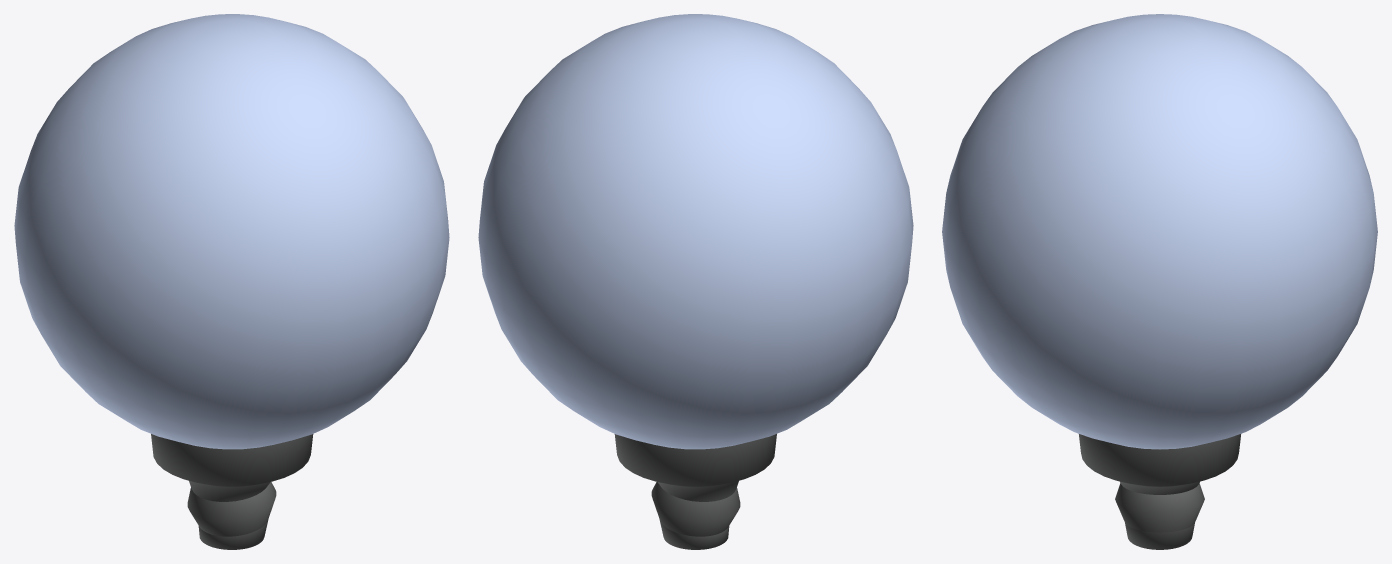
Rendered from lightbulb.fbx.
3 renders of one model, left to right at view 1: azimuth 30°, elevation 25°; view 2: azimuth 150°, elevation 25°; view 3: azimuth 270°, elevation 25°, orthographic.
Visible parts, largest first — view 1: lightbulb; view 2: lightbulb; view 3: lightbulb.
Part boxes in pixels (x1,y1,x2,y2): lightbulb: [14, 14, 449, 549]; lightbulb: [478, 14, 913, 549]; lightbulb: [942, 14, 1377, 549].
Bounding box in the file's own units: 14.36 × 18.69 × 14.36.
Materials: 1 (1 with a texture image).
